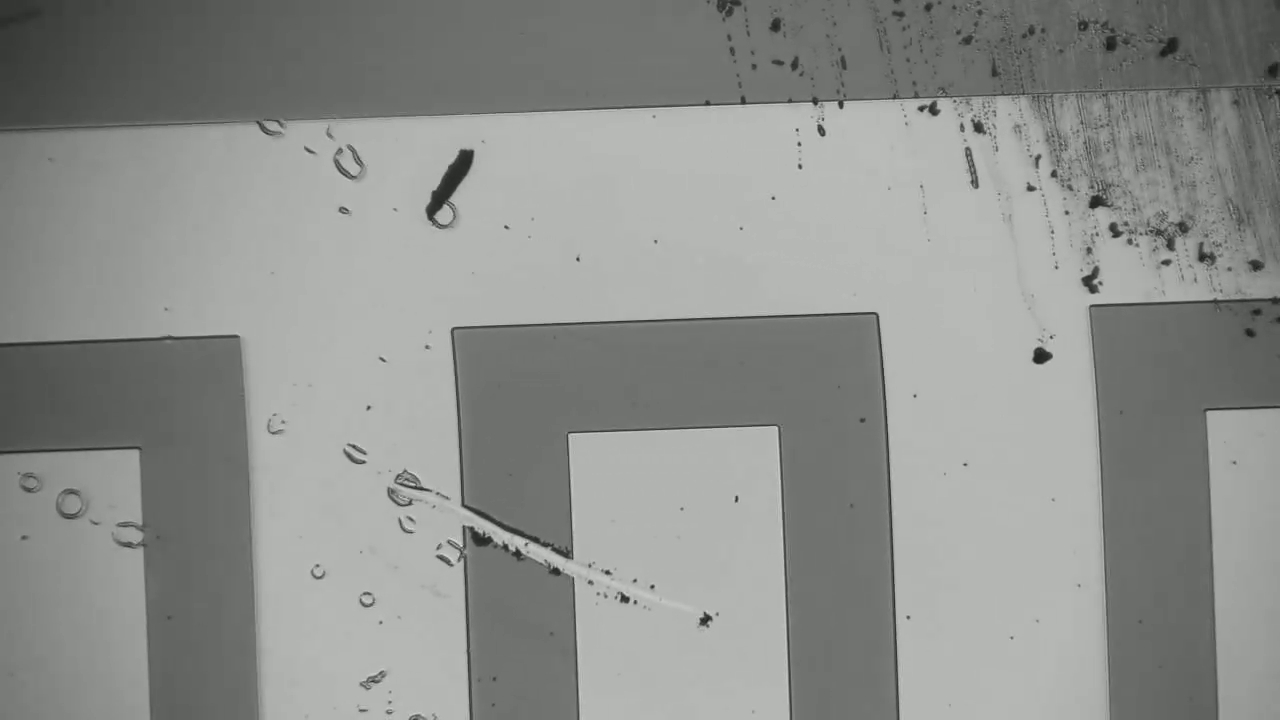Short_circuit: (434, 472, 628, 606)
